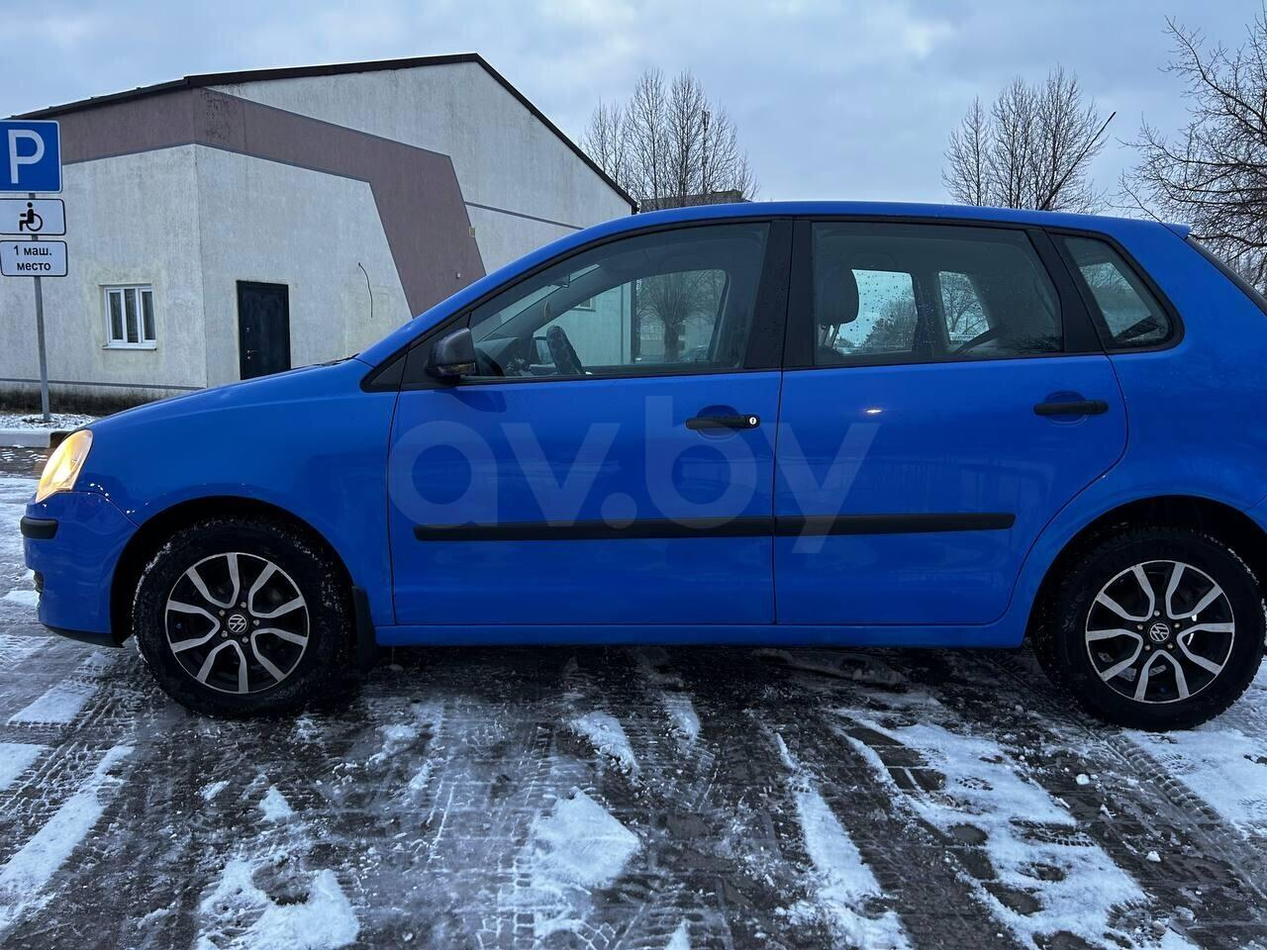Polo_2005-2009: (0, 191, 1266, 731)
